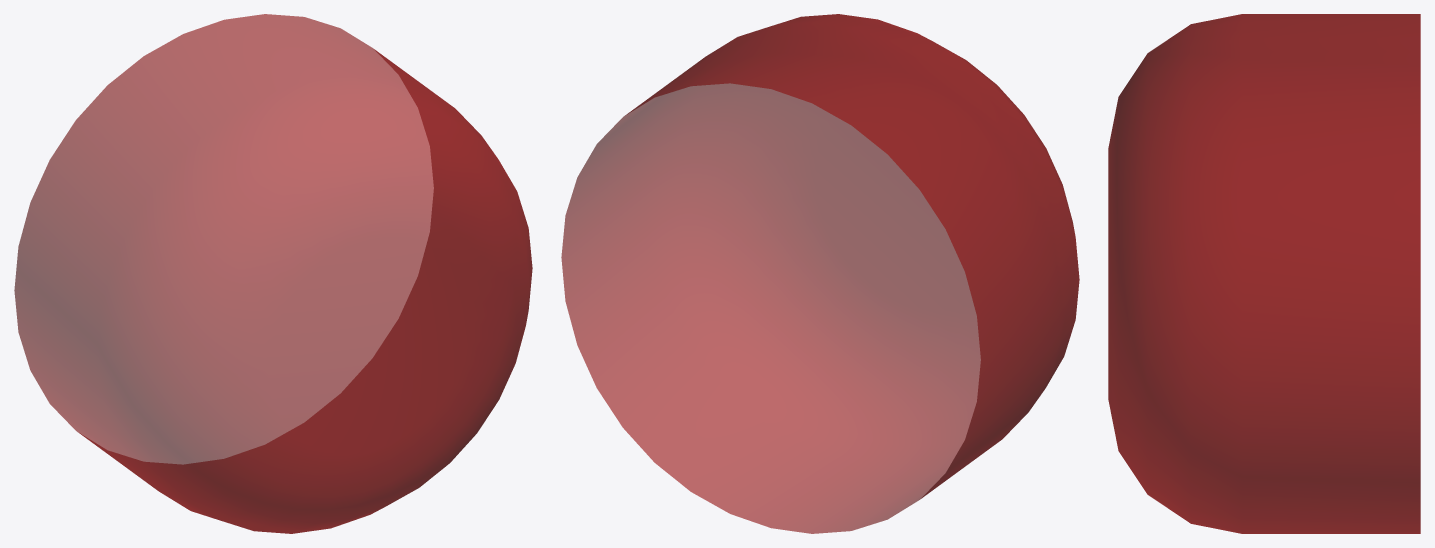
File: ButtonsGlass_MouseRedTrans_0.dae
3 views of the same model, side by side, from view 1: azimuth 30°, elevation 25°; view 2: azimuth 150°, elevation 25°; view 3: azimuth 270°, elevation 25° (orthographic). The views are drawn at different scales.
Parts seen in each view (by area): view 1: ButtonsGlass_MouseRedTrans_0; view 2: ButtonsGlass_MouseRedTrans_0; view 3: ButtonsGlass_MouseRedTrans_0.
Boxes of the visible parts, x1=… form: ButtonsGlass_MouseRedTrans_0: x1=14, y1=14, x2=532, y2=533; ButtonsGlass_MouseRedTrans_0: x1=561, y1=14, x2=1079, y2=533; ButtonsGlass_MouseRedTrans_0: x1=1108, y1=14, x2=1420, y2=533.
Size of the model in its own units: 0.00794 by 0.00794 by 0.00476.
